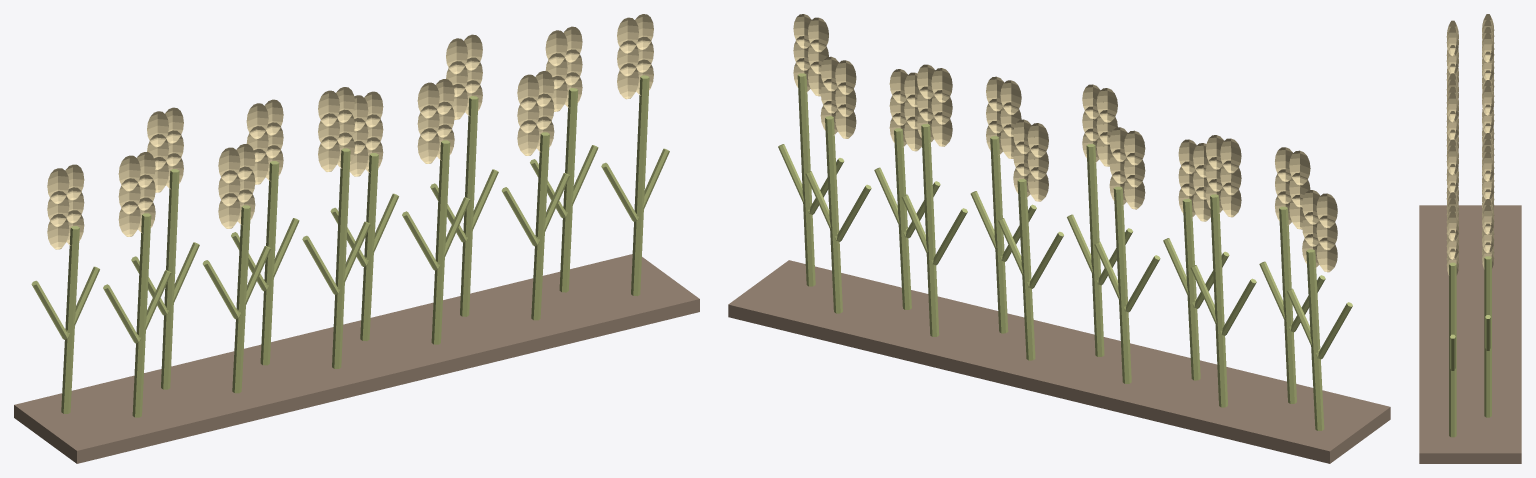
The model's file is harvest-hearth-ripe-wheat-row__57.glb.
The picture shows the model from 3 angles, left to right: view 1: azimuth 30°, elevation 25°; view 2: azimuth 150°, elevation 25°; view 3: azimuth 270°, elevation 25°; orthographic projection. The views are drawn at different scales.
Visible parts, largest first — view 1: harvest-hearth-wheat-row; view 2: harvest-hearth-wheat-row; view 3: harvest-hearth-wheat-row.
Part boxes in pixels (x1,y1,x2,y2): harvest-hearth-wheat-row: (14, 14, 699, 463); harvest-hearth-wheat-row: (728, 14, 1390, 463); harvest-hearth-wheat-row: (1419, 14, 1521, 463).
Bounding box in the file's own units: 2.01 × 0.895 × 0.35.
